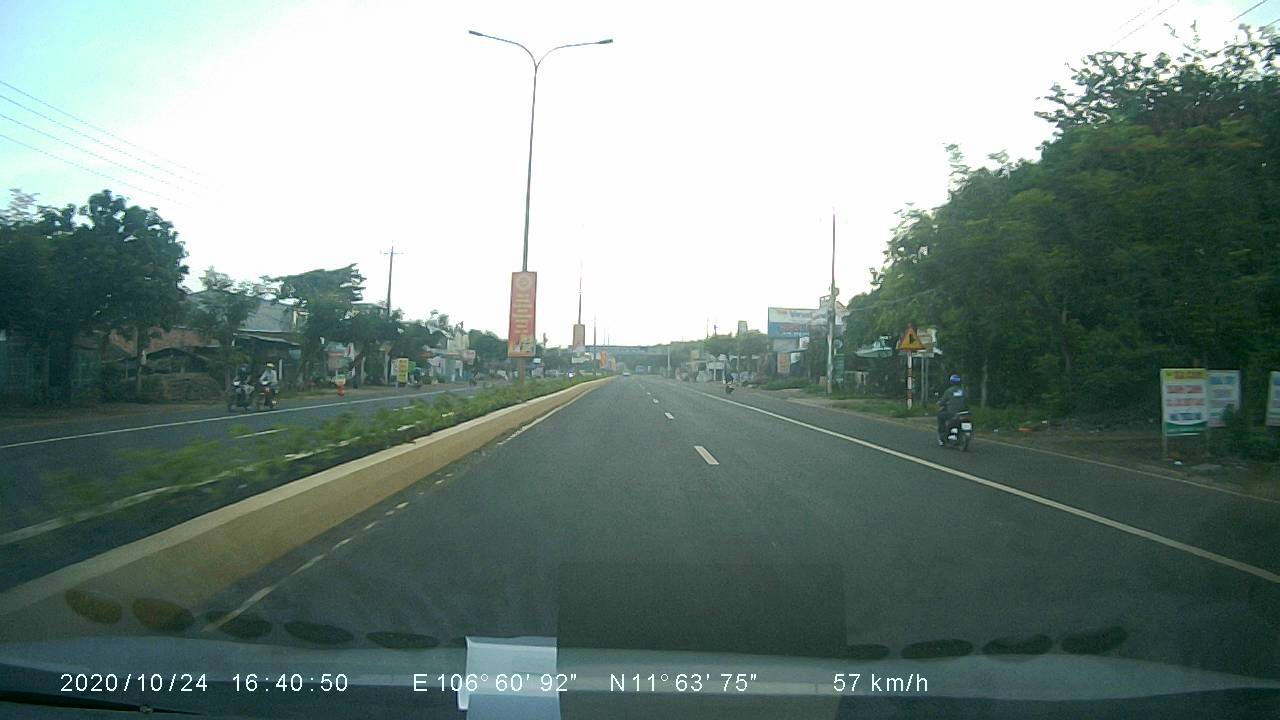Giao nhau voi duong khong uu tien: (894, 321, 926, 348)
